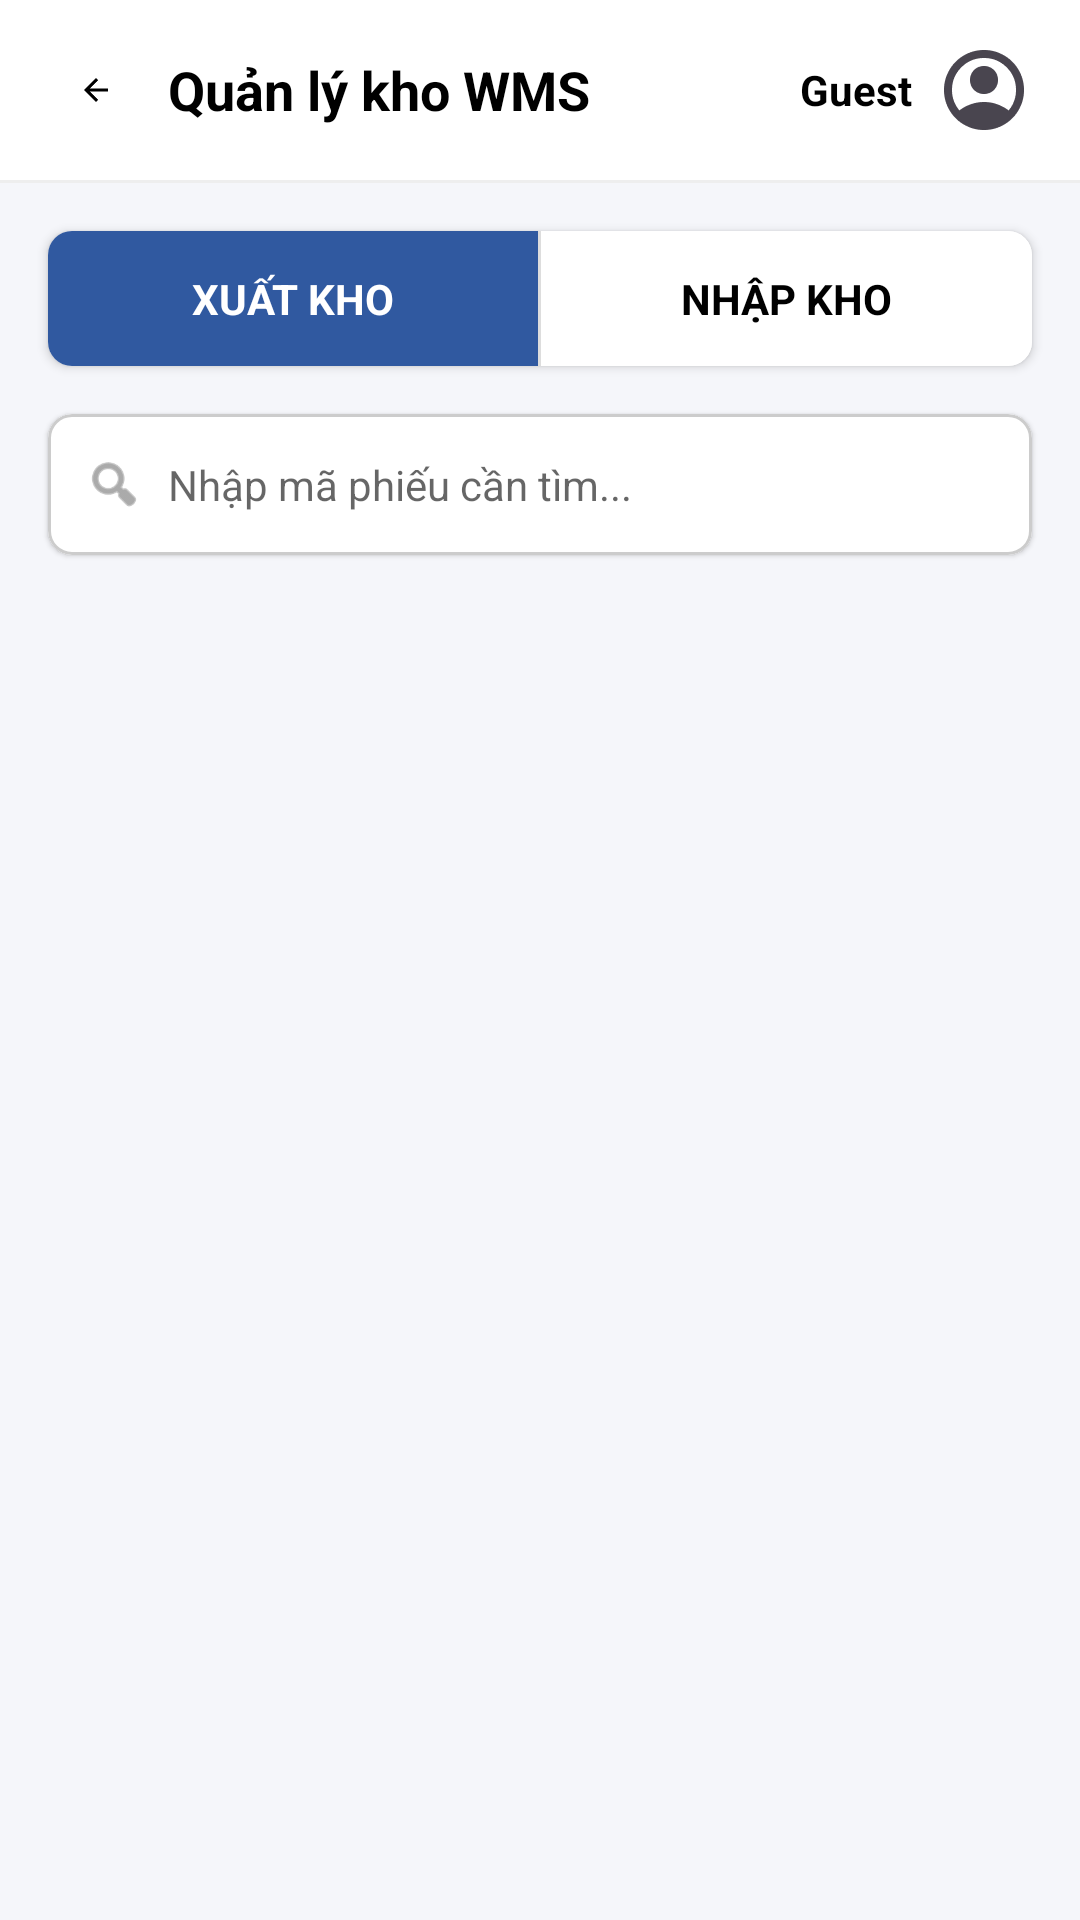

Point at icon controls on the screen. Image size 1080px×1920px, points as [x,y].
back: [96,90]
search: [114,484]
user: [984,90]
